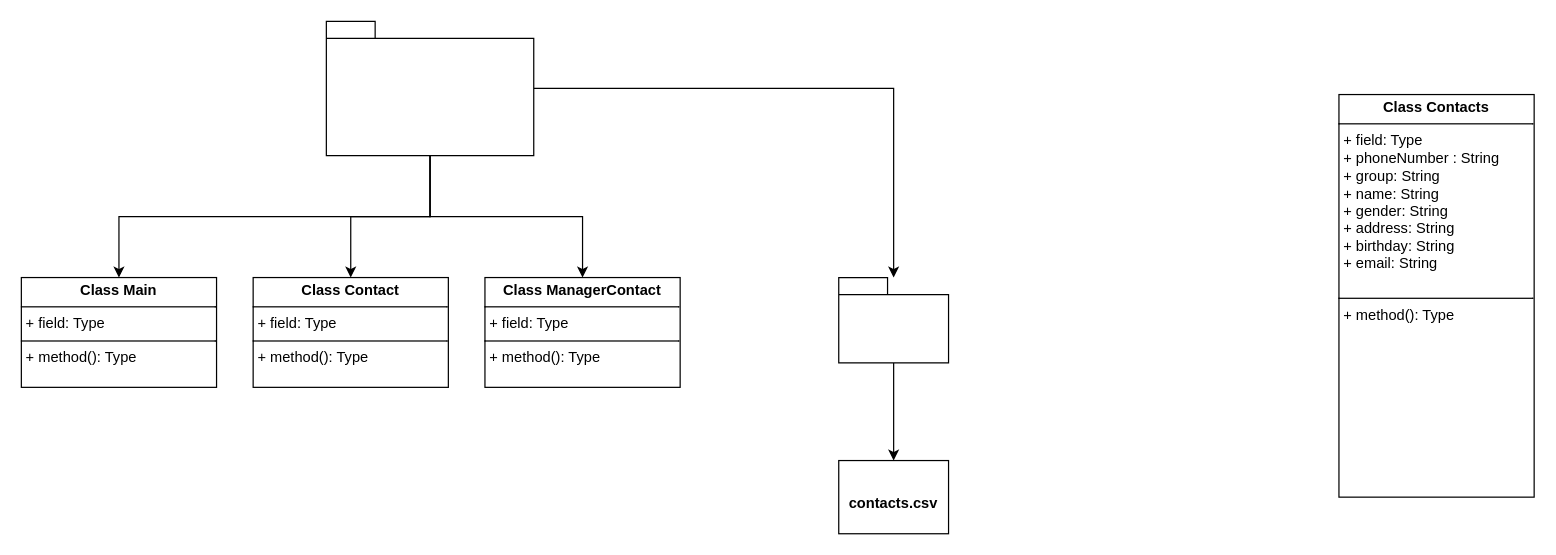
The diagram is 1556 pixels wide and 555 high, and some of its shapes have lost their labels. The box of each missing label's shape, as (x1, y1, x2, y2) in pixels:
data: (838, 276, 949, 363)
src: (325, 20, 534, 156)
